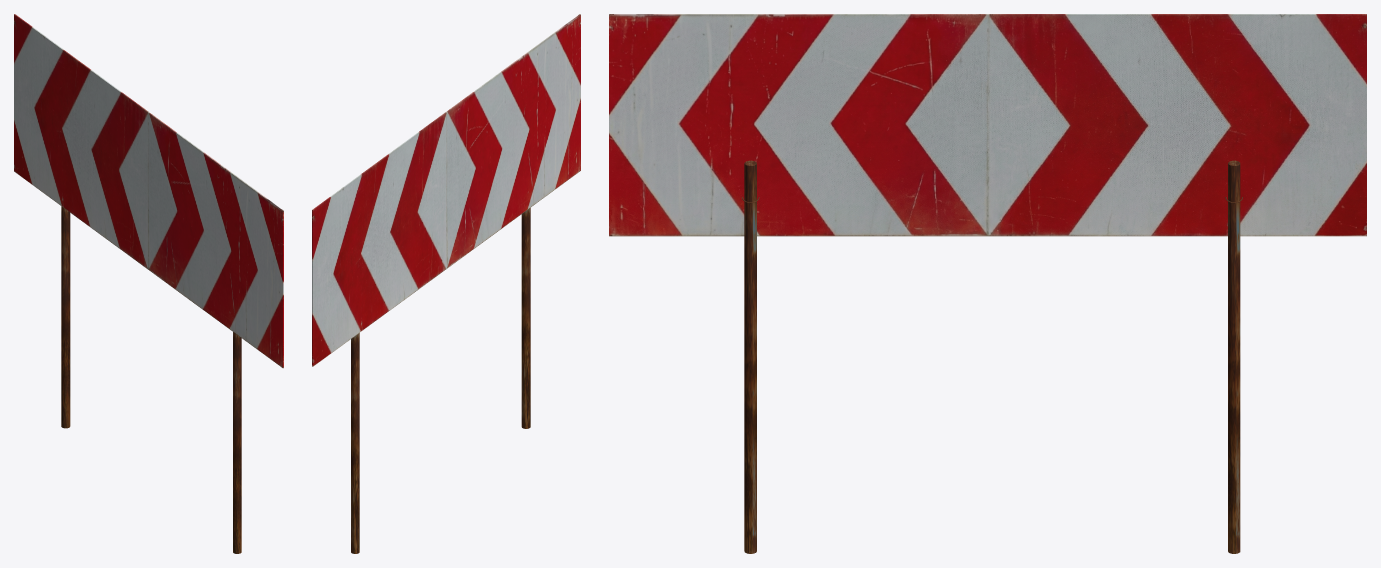
Rendered from Road sign.fbx.
3 renders of one model, left to right at view 1: azimuth 30°, elevation 25°; view 2: azimuth 150°, elevation 25°; view 3: azimuth 270°, elevation 25°, orthographic. The views are drawn at different scales.
Parts seen in each view (by area): view 1: pCube1, pTorus3; view 2: pCube1, pTorus3; view 3: pCube1, pTorus3.
Boxes of the visible parts, bbox=[...] form: pCube1: bbox=[14, 14, 283, 368]; pTorus3: bbox=[61, 206, 241, 553]; pCube1: bbox=[312, 14, 580, 366]; pTorus3: bbox=[351, 208, 530, 553]; pCube1: bbox=[609, 14, 1366, 236]; pTorus3: bbox=[742, 160, 1242, 553].
Bounding box in the file's own units: 0.0631 × 2.41 × 3.1.
Materials: 2 (2 with a texture image).
